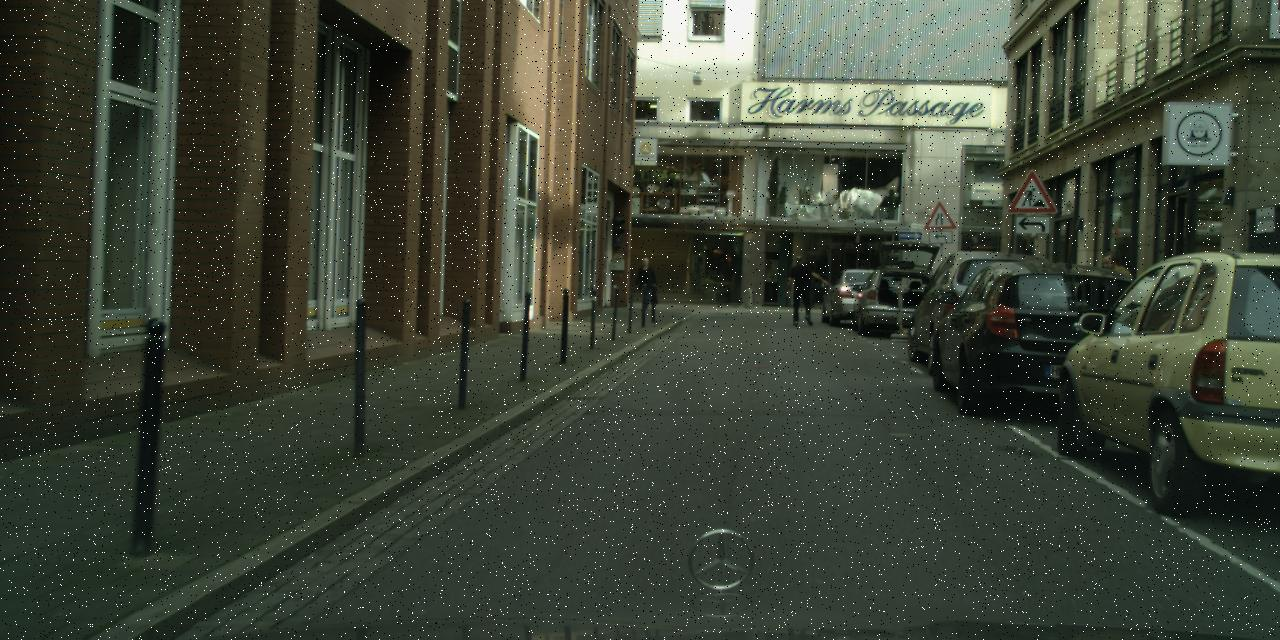ped: (1089, 250, 1140, 376), (786, 255, 815, 326), (635, 257, 655, 307)
